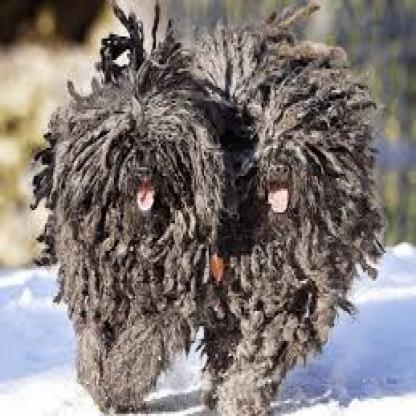puli: (15, 43, 225, 416), (205, 12, 389, 416)
